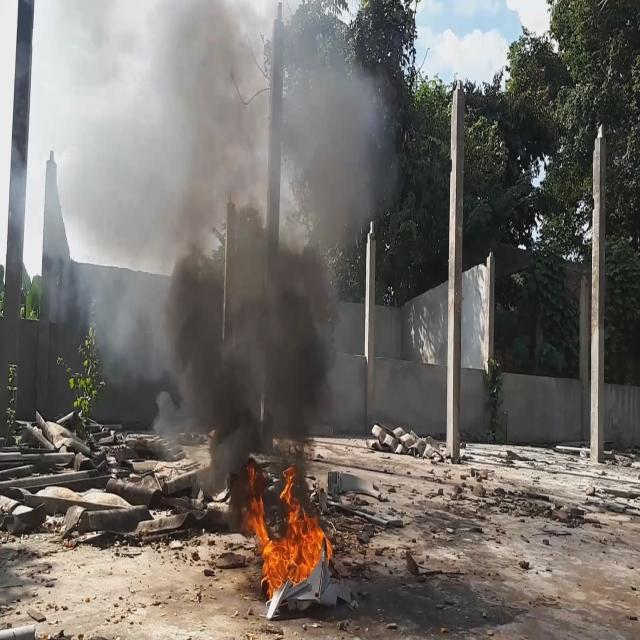Fire: (238, 461, 336, 596)
Smoke: (56, 0, 397, 516)
